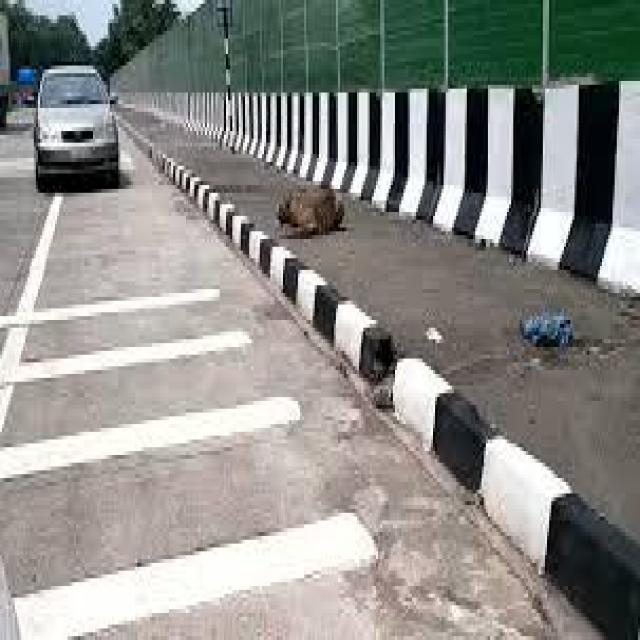curb: (341, 88, 636, 243), (460, 431, 640, 640), (302, 280, 473, 474), (196, 196, 314, 306), (271, 94, 382, 198), (164, 84, 270, 156)
